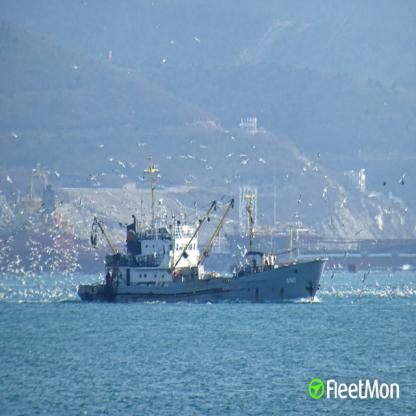Fishing Boat: (78, 157, 328, 303)
